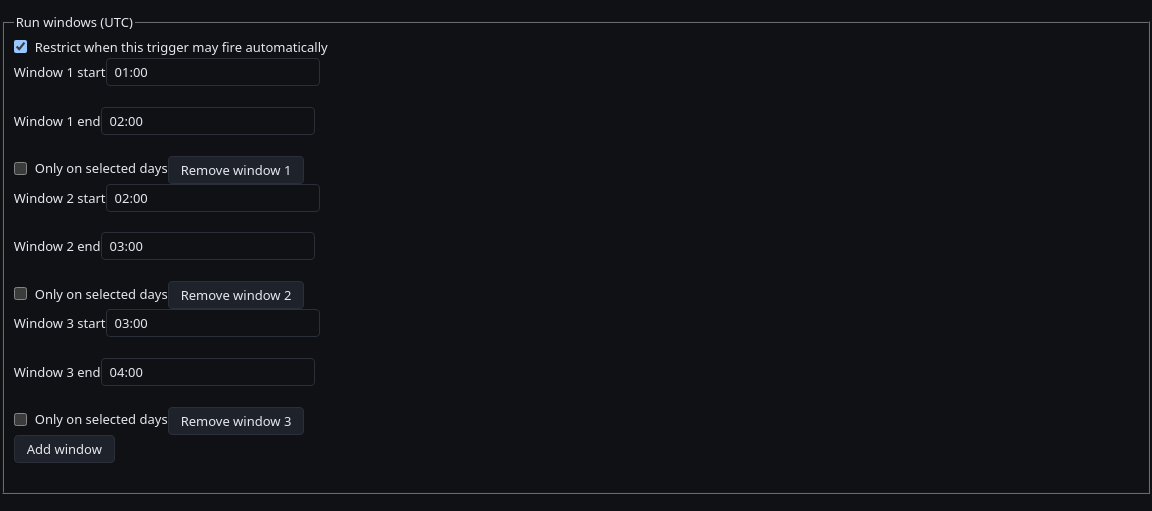
Scenario: #1092 run-window row removal — identity and focus › removing the LAST row moves focus to the row before it
The width and height of the screenshot is (1152, 511).
Click the button "Remove window 3" at (236, 421), box [168,407,304,435]
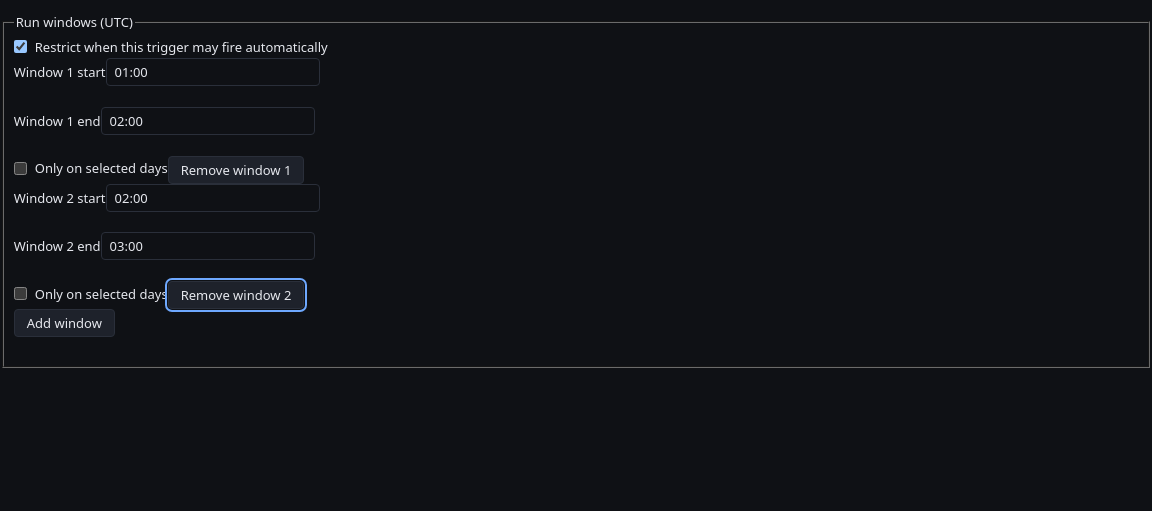
Expected: the label labelled "Window 3 start" is gone
